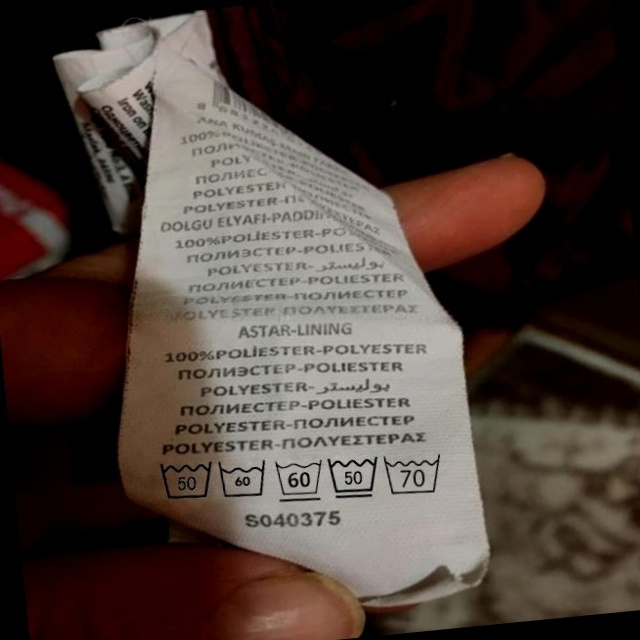50C: (153, 451, 219, 507), (324, 450, 385, 504)
60C: (272, 452, 330, 505), (215, 454, 273, 505)
70C: (382, 448, 450, 499)
